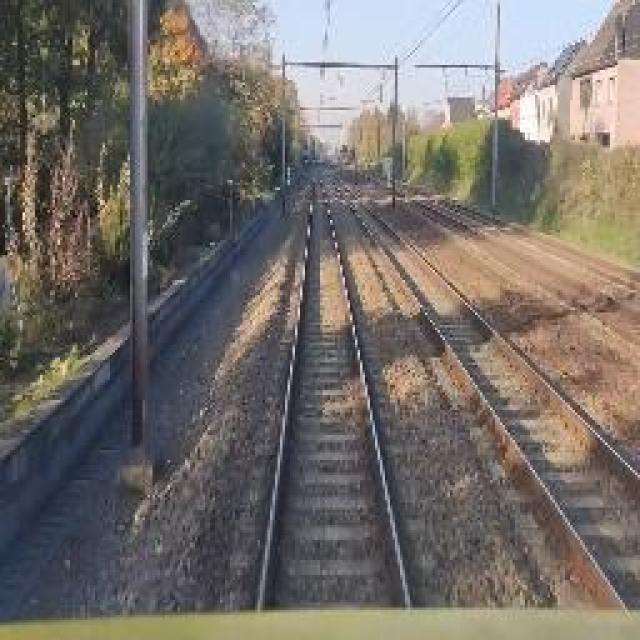rail: (319, 160, 640, 611), (236, 165, 433, 612)
